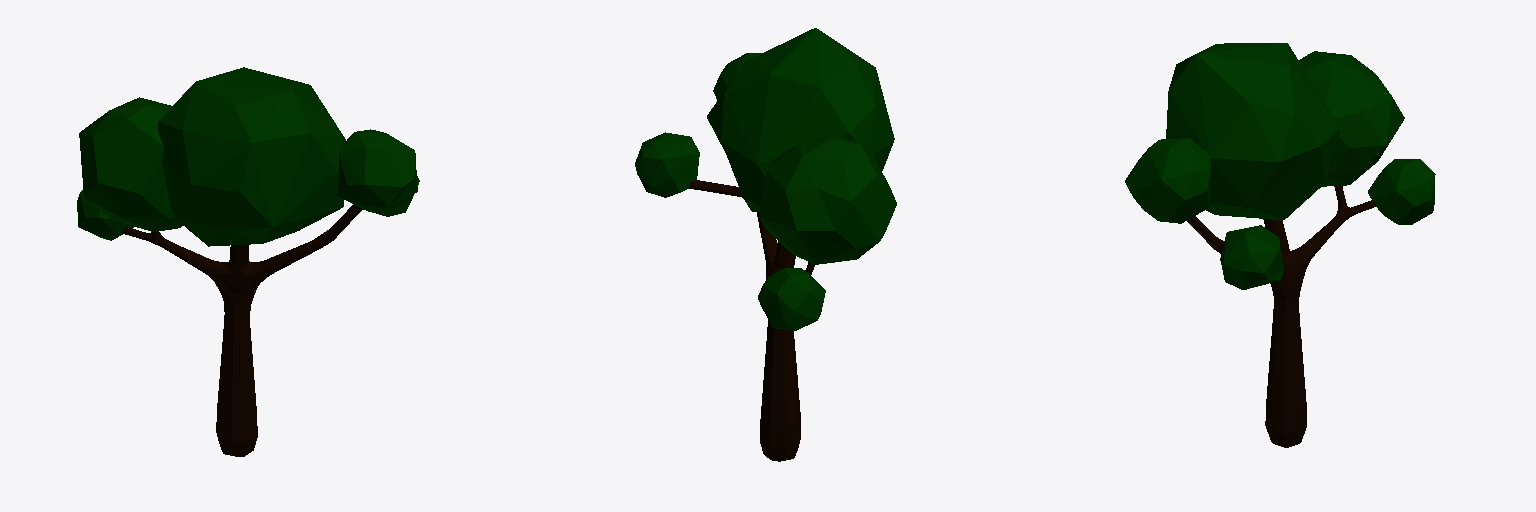
The model's file is arbore1.obj.
The picture shows the model from 3 angles: view 1: azimuth 30°, elevation 25°; view 2: azimuth 150°, elevation 25°; view 3: azimuth 270°, elevation 25°; orthographic projection.
Parts seen in each view (by area): view 1: Follas.001, Follas.002, Tronco; view 2: Follas.001, Follas.002, Tronco, Follas; view 3: Follas.001, Follas.002, Tronco, Follas.
Part boxes in pixels (left/top/right/bottom): Follas.001: left=158, top=67, right=345, bottom=246; Follas.002: left=77, top=97, right=417, bottom=240; Tronco: left=122, top=204, right=362, bottom=456; Follas.001: left=707, top=28, right=894, bottom=211; Follas.002: left=713, top=53, right=896, bottom=330; Tronco: left=689, top=180, right=814, bottom=461; Follas: left=635, top=132, right=699, bottom=197; Follas.001: left=1166, top=43, right=1339, bottom=219; Follas.002: left=1125, top=51, right=1435, bottom=224; Tronco: left=1187, top=186, right=1375, bottom=447; Follas: left=1220, top=225, right=1283, bottom=289.
Bounding box in the file's own units: 2.51 × 3.33 × 2.36.